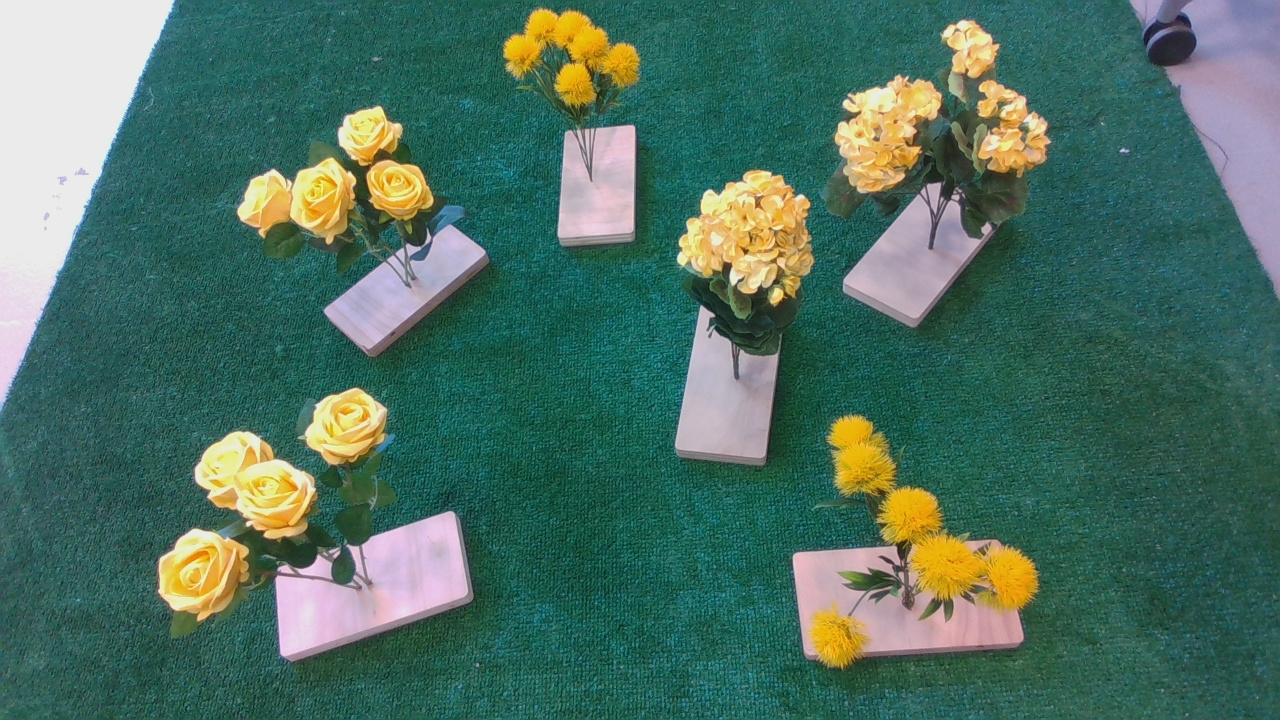dandelion: (797, 417, 1052, 675), (487, 9, 656, 130)
geranium: (824, 22, 1063, 244), (229, 100, 463, 272), (684, 153, 820, 358)
rose: (149, 383, 422, 653)
